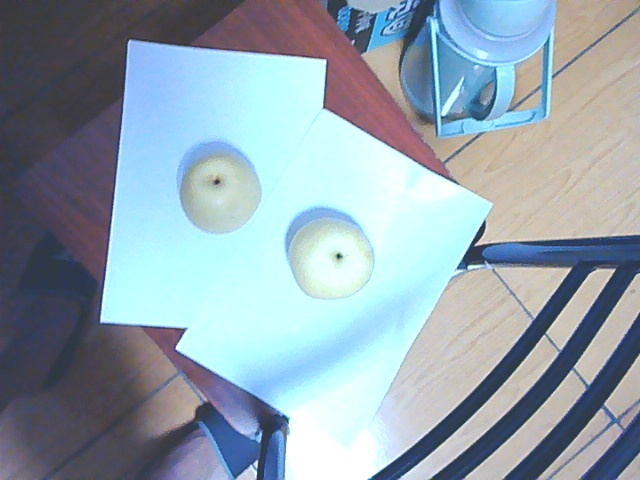pear: (293, 211, 375, 303), (182, 152, 265, 235)
